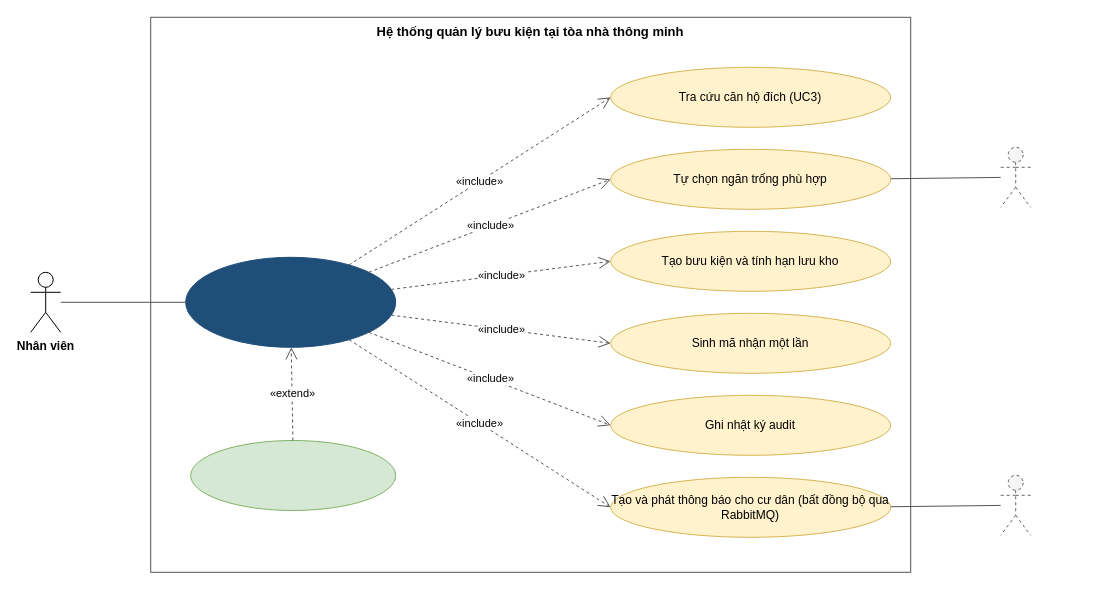
Image size: 1104x590. Some labels were removed from this diagram. Here are the shapes that lost their labels. From the top down, the centre of each, then its label:
At (1015,176): "Hệ thống tủ khóa (giả lập)".
At (290,301): "Tiếp nhận bưu kiện".
At (293,475): "Báo lỗi khi căn hộ không tồn tại hoặc hết ngăn trống".
At (1015,504): "Dịch vụ thông báo (giả lập)".
